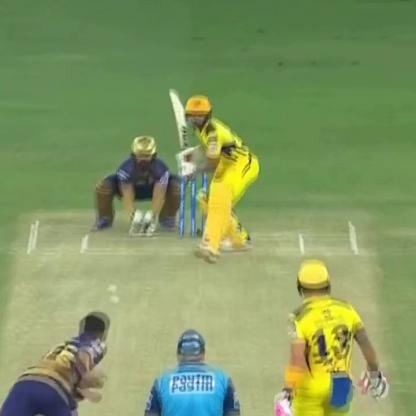ball: (100, 282, 122, 291), (106, 293, 126, 302)
bat: (160, 87, 194, 160)
pitch: (4, 205, 399, 415)
